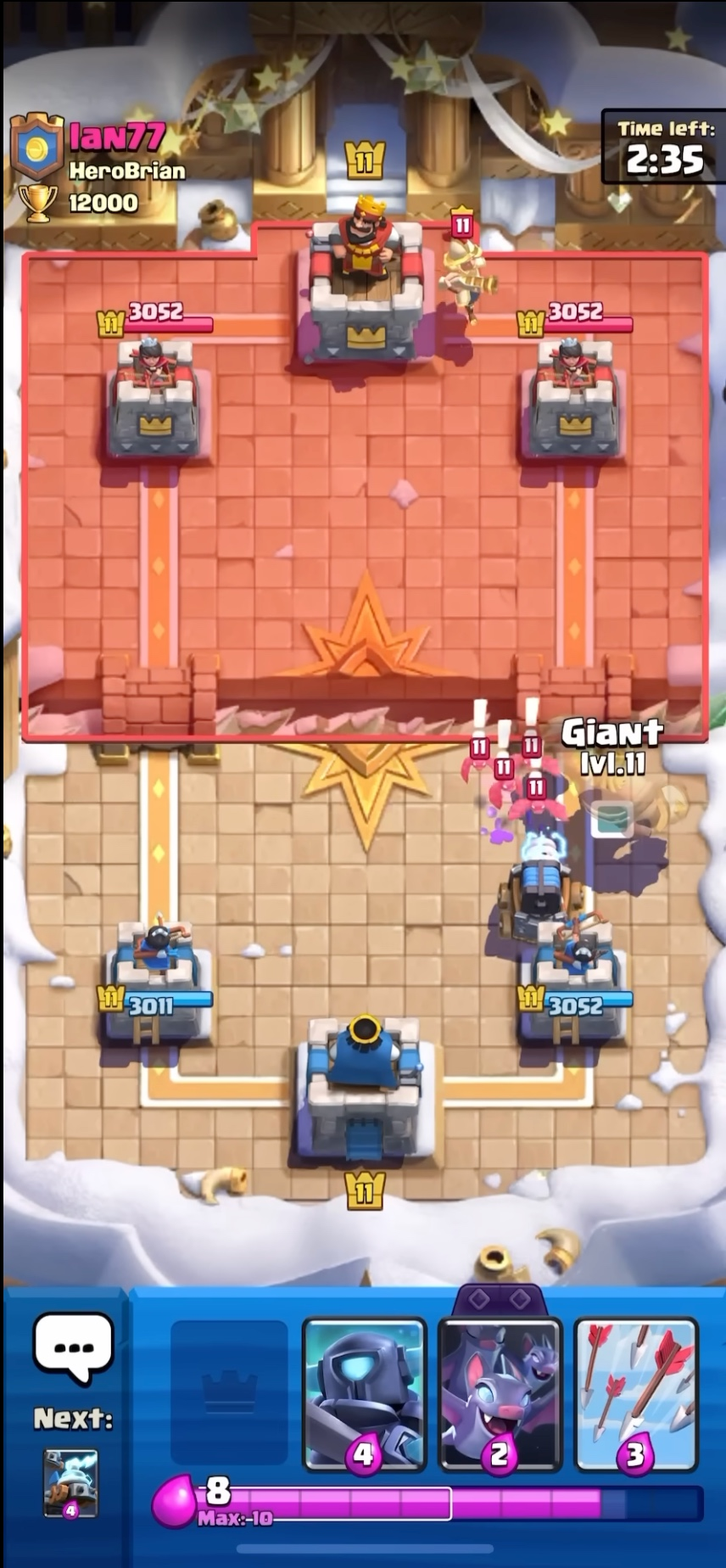bats: (453, 719, 496, 783), (515, 770, 558, 834), (483, 759, 526, 822), (511, 716, 553, 780)
hero-musketeer: (438, 206, 504, 332)
